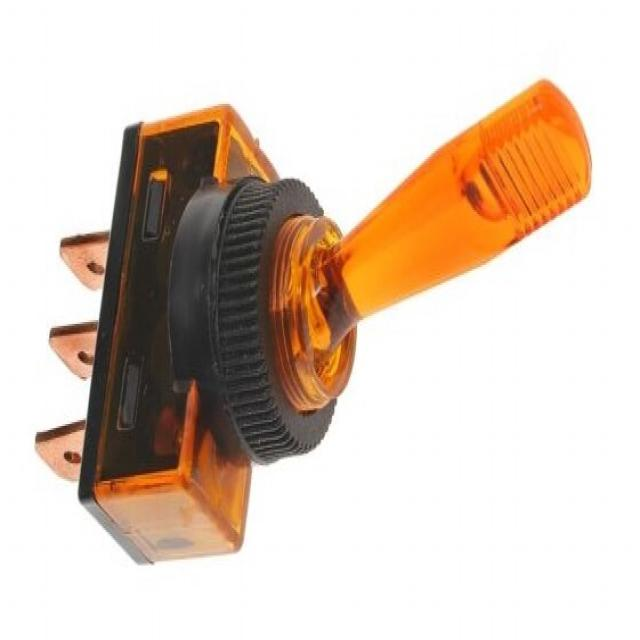toggle switch: (215, 79, 595, 468)
